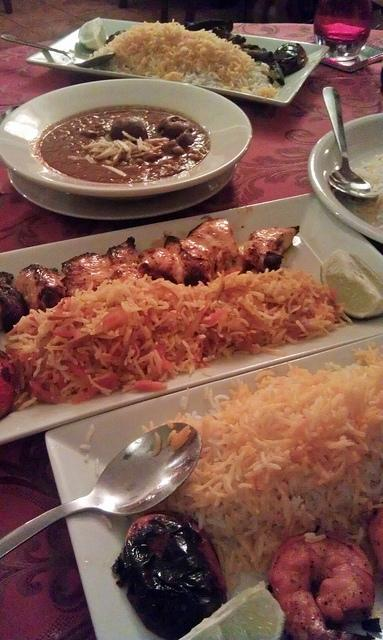lime: (178, 579, 286, 640), (321, 249, 383, 319), (79, 16, 106, 52)
